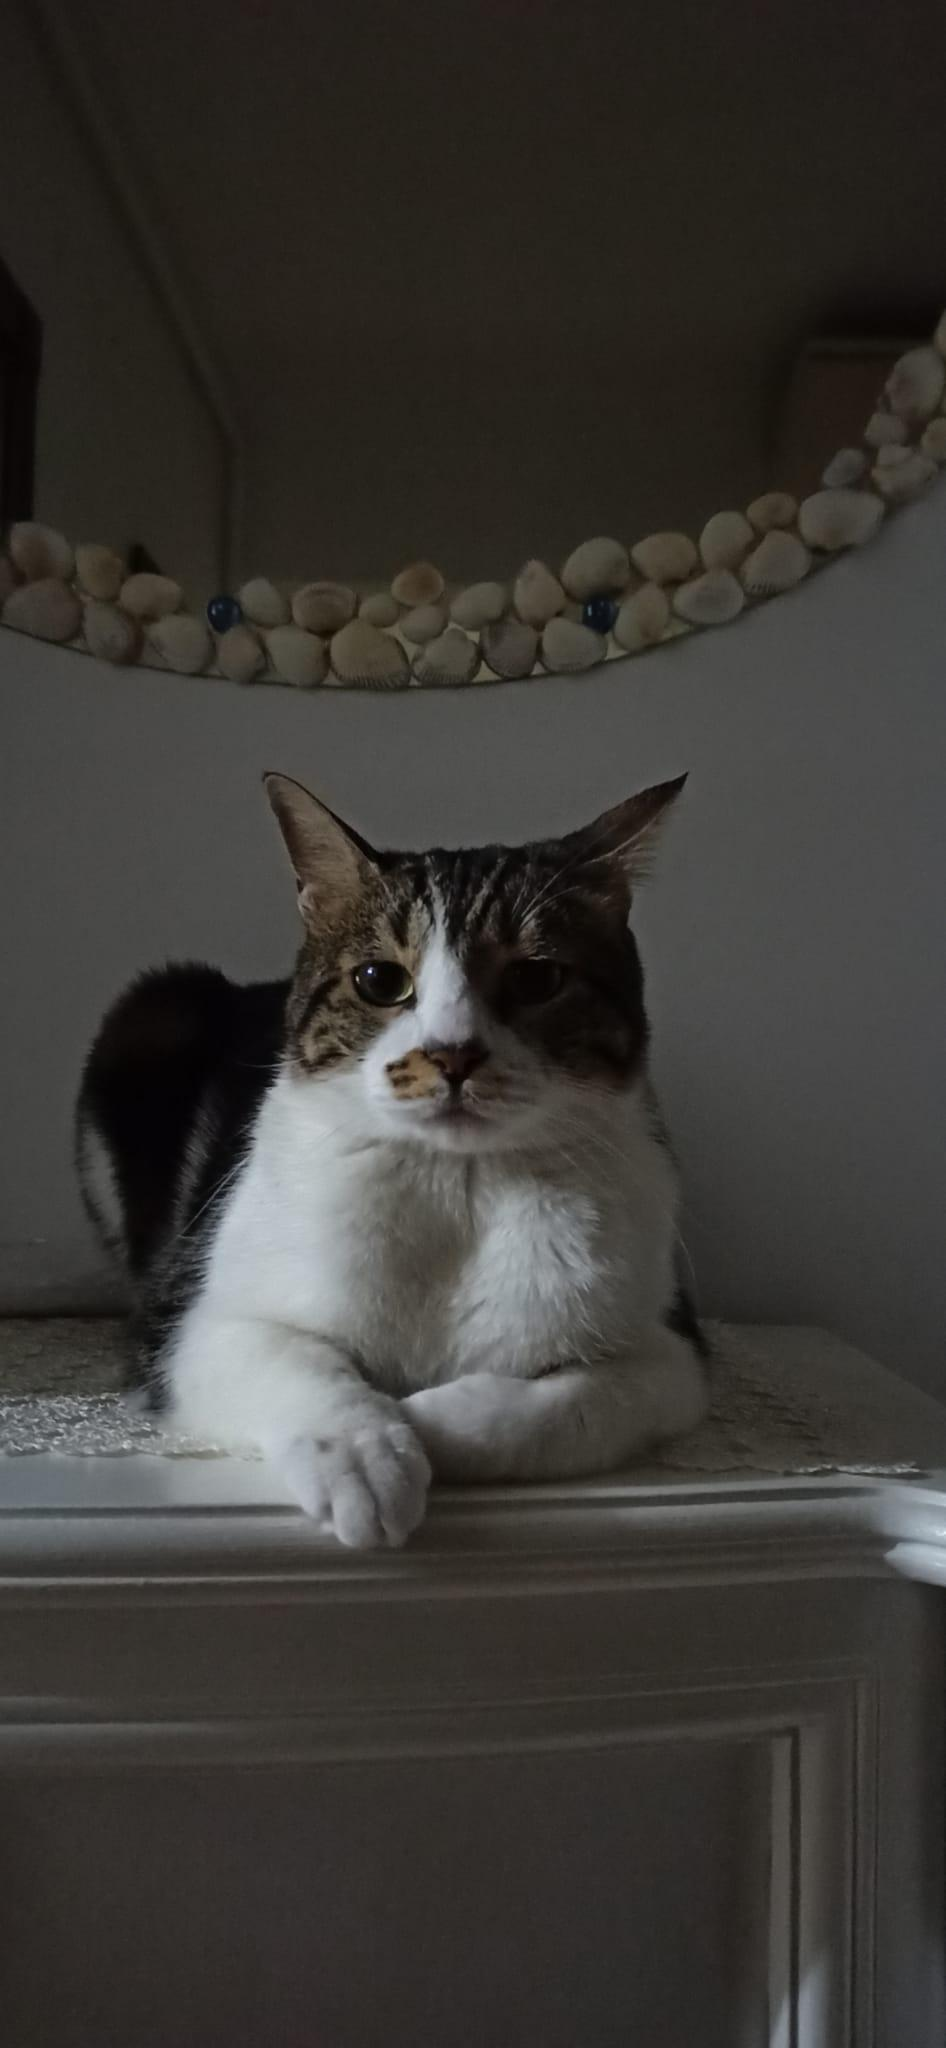kedo: (73, 771, 708, 1546)
